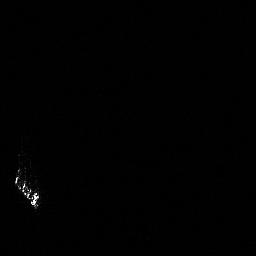ship: (12, 173, 43, 210)
